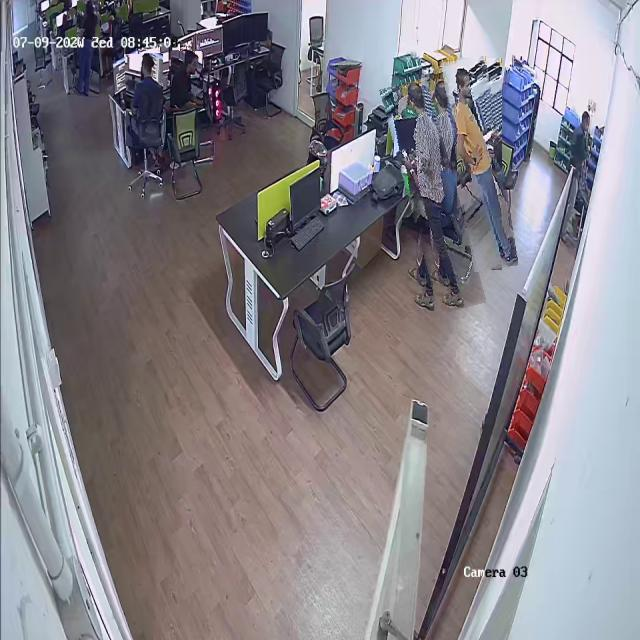person: (394, 78, 471, 313), (449, 57, 510, 271), (125, 54, 164, 146), (76, 1, 100, 96), (170, 51, 204, 108)
